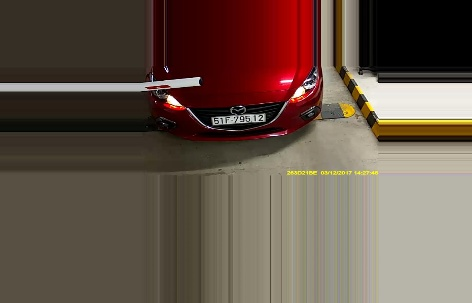plate: (211, 114, 266, 127)
